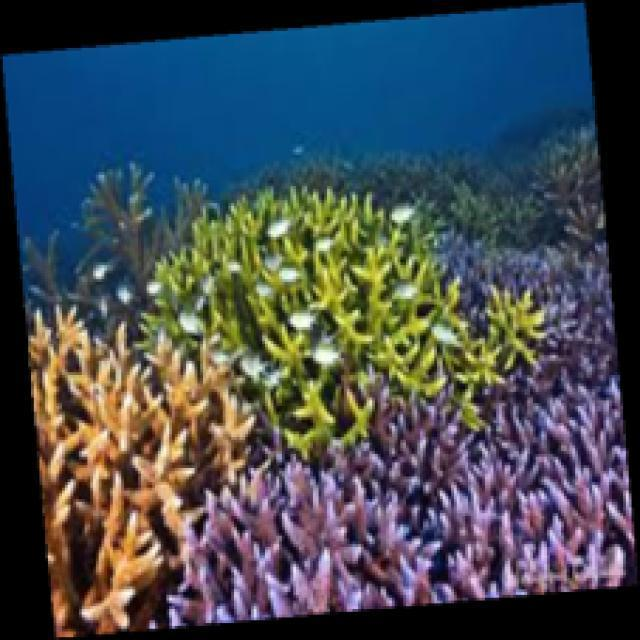Healthy: (169, 235, 640, 633), (142, 187, 551, 458), (27, 303, 259, 640)
